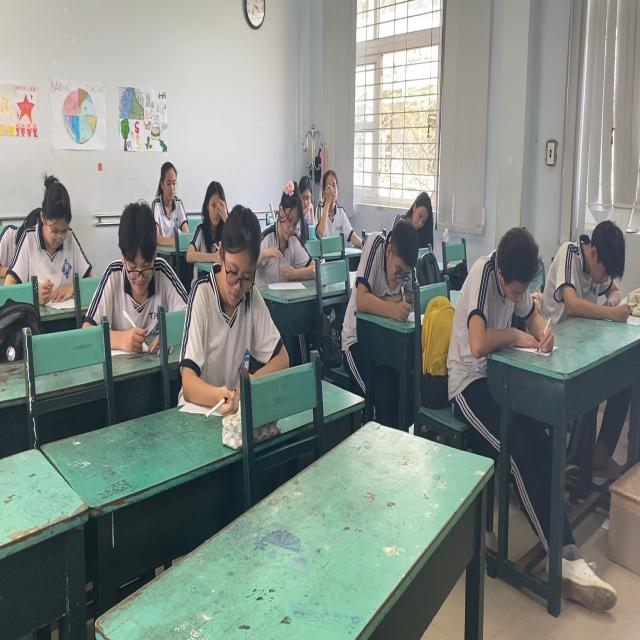not_cheating: (94, 194, 177, 352), (205, 204, 272, 386), (465, 224, 552, 356), (548, 214, 638, 331), (14, 165, 89, 279), (258, 183, 310, 286), (356, 221, 418, 307), (316, 162, 348, 255), (148, 158, 186, 231), (399, 183, 434, 245), (197, 172, 226, 245)
